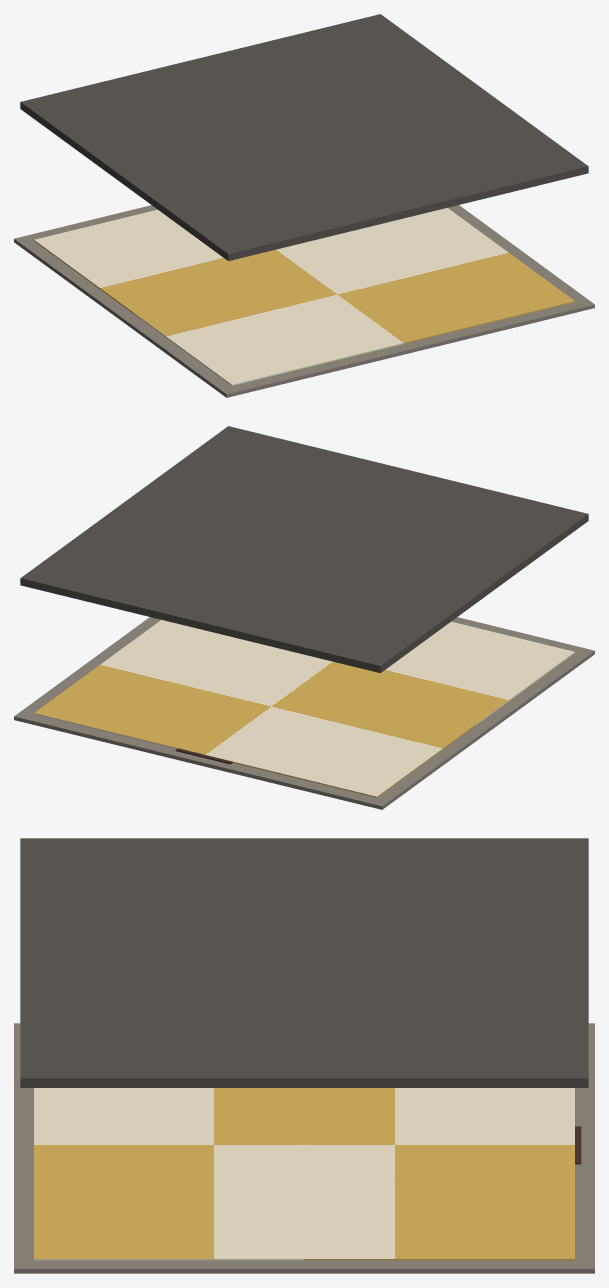
The model's file is structure.glb.
The picture shows the model from 3 angles, top to bottom: view 1: azimuth 30°, elevation 25°; view 2: azimuth 150°, elevation 25°; view 3: azimuth 270°, elevation 25°; orthographic projection. The views are drawn at different scales.
Parts seen in each view (by area): view 1: Box5, Box2, Box1; view 2: Box5, Box2, Box1; view 3: Box5, Box2, Box1.
Part boxes in pixels (<box>): Box5: <box>20,14,588,260</box>; Box2: <box>34,208,574,385</box>; Box1: <box>14,205,594,397</box>; Box5: <box>20,426,588,672</box>; Box2: <box>34,620,574,797</box>; Box1: <box>14,617,594,809</box>; Box5: <box>20,838,588,1087</box>; Box2: <box>34,1088,574,1260</box>; Box1: <box>14,1023,594,1273</box>.
Bounding box in the file's own units: 10.74 × 3.93 × 10.74.
Materials: 6 (1 with a texture image).
